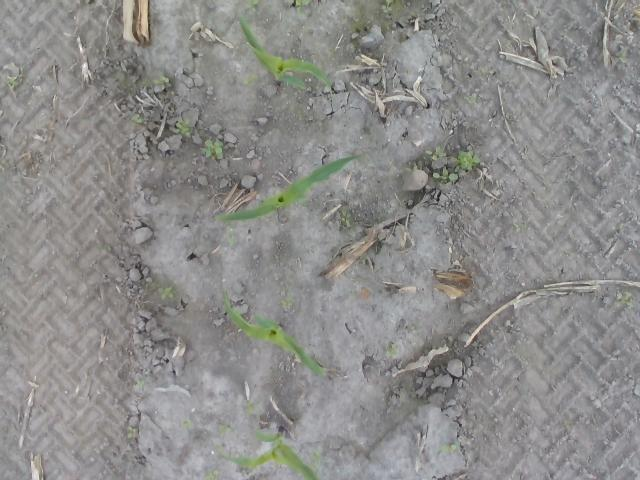Maize: (215, 154, 368, 222), (223, 288, 329, 377), (239, 11, 334, 100), (211, 429, 328, 479)
Weeds: (426, 146, 481, 180), (312, 451, 328, 480), (4, 67, 25, 87), (174, 118, 193, 140), (616, 291, 636, 311), (205, 139, 224, 158), (242, 400, 262, 413), (242, 74, 258, 88), (158, 286, 173, 300), (154, 76, 172, 87), (514, 219, 528, 233), (280, 296, 294, 310), (386, 344, 399, 359), (441, 444, 457, 456), (294, 0, 310, 12), (227, 226, 236, 246), (382, 0, 394, 14), (246, 1, 260, 13), (218, 424, 234, 434), (342, 212, 350, 228), (466, 96, 478, 106), (132, 114, 142, 126), (128, 425, 134, 439), (406, 166, 420, 172), (181, 418, 190, 427), (208, 472, 218, 480)
